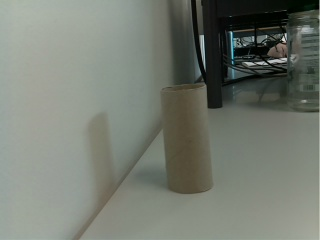rollo papel: (159, 82, 217, 198)
